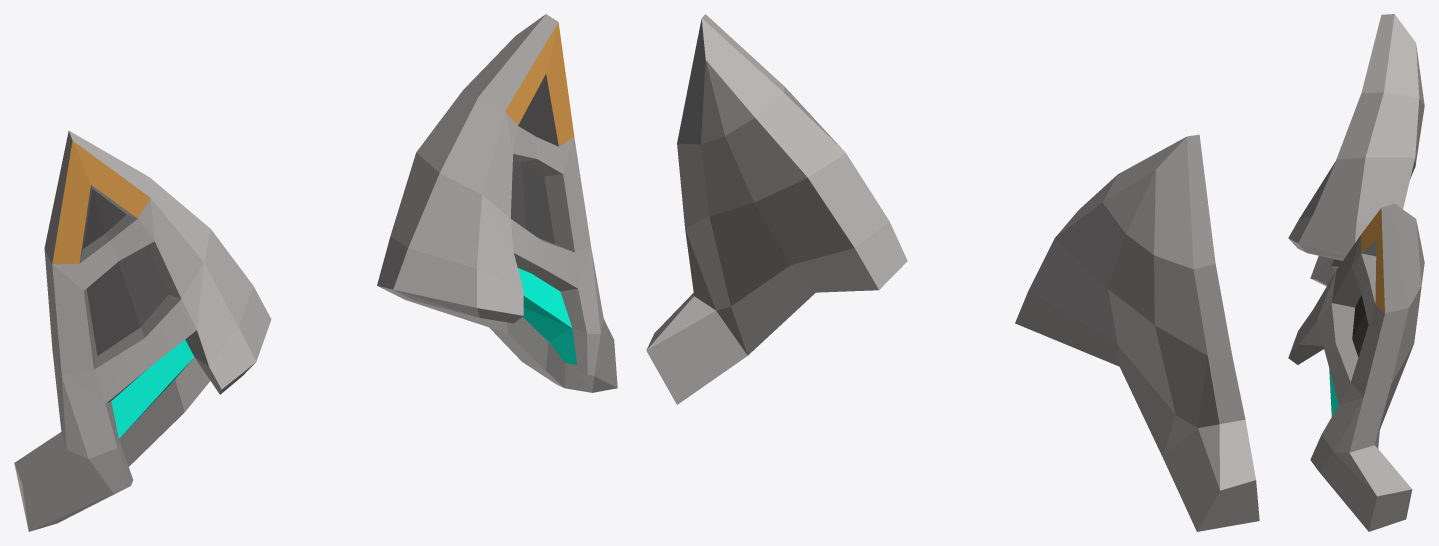
File: SM_Chr_Attach_MurderKitten_Ears_01.fbx
3 views of the same model, side by side, from view 1: azimuth 30°, elevation 25°; view 2: azimuth 150°, elevation 25°; view 3: azimuth 270°, elevation 25° (orthographic). The views are drawn at different scales.
Parts seen in each view (by area): view 1: SM_Chr_Attach_MurderKitten_Ears_01; view 2: SM_Chr_Attach_MurderKitten_Ears_01; view 3: SM_Chr_Attach_MurderKitten_Ears_01.
Part boxes in pixels (x1,y1,x2,y2): SM_Chr_Attach_MurderKitten_Ears_01: [14, 14, 617, 531]; SM_Chr_Attach_MurderKitten_Ears_01: [646, 14, 1259, 531]; SM_Chr_Attach_MurderKitten_Ears_01: [1288, 14, 1424, 531].
Size of the model in its own units: 64.28 by 39.4 by 15.77.
